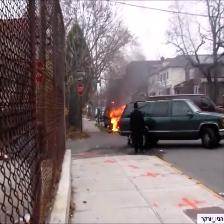fire: (101, 104, 134, 135)
